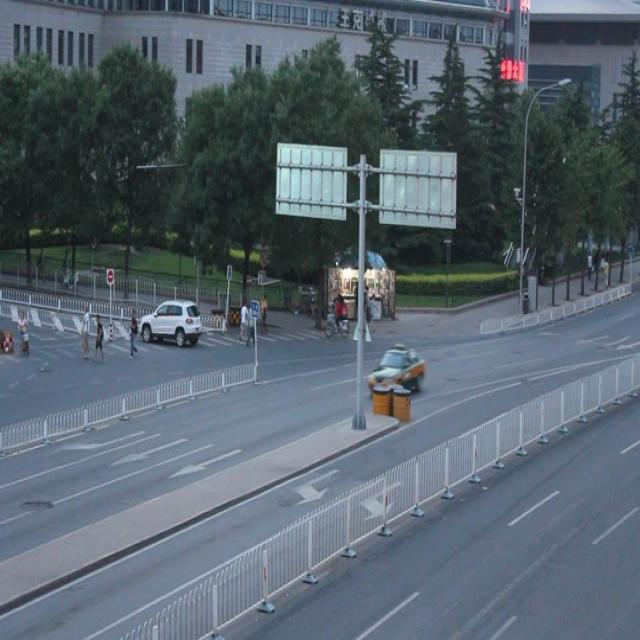car: (140, 298, 201, 344), (368, 346, 423, 392)
